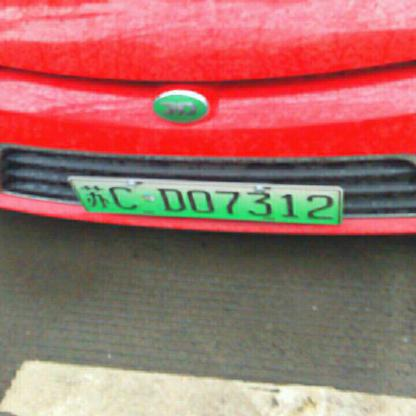lp: (70, 181, 338, 222)
